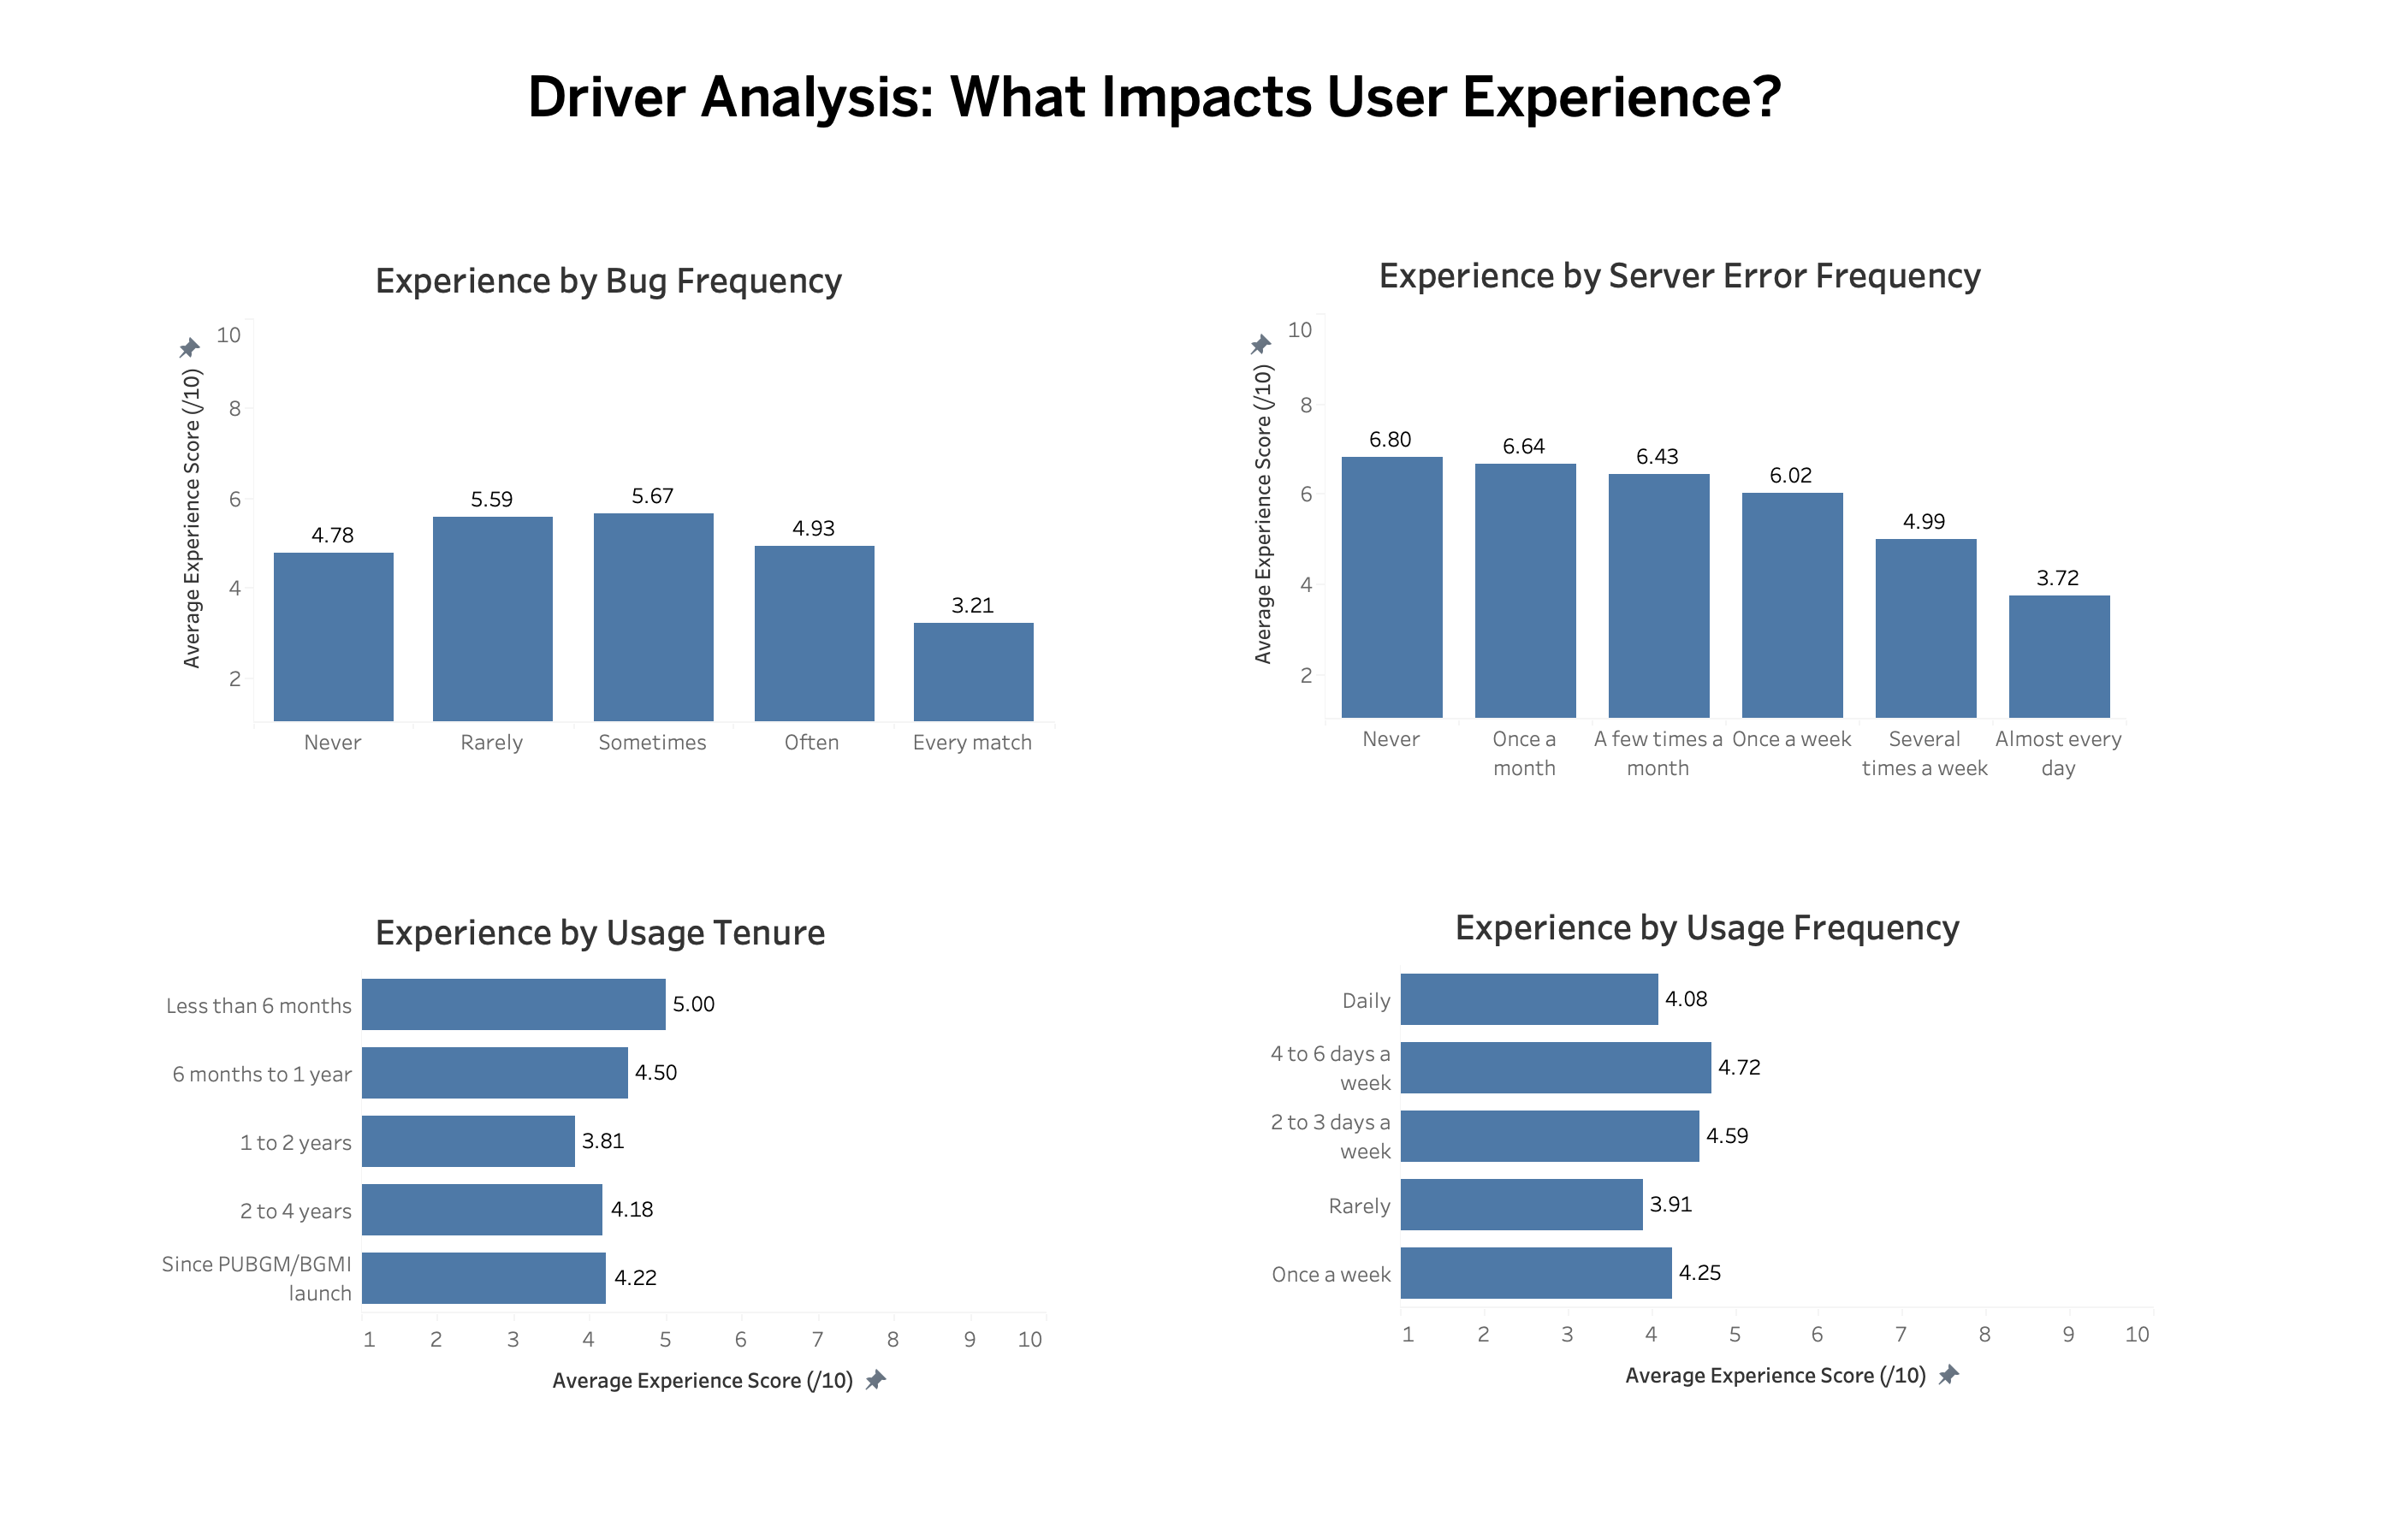

This screenshot's page, from the dashboard's own definition file:
{"tool":"tableau","page":{"name":"Driver Analysis","canvas":[1400,900],"ordinal":0},"visuals":[{"type":"text","box":[248,8,854,99]},{"type":"worksheet","title":"Experience by Server Error Frequency","mark":"Automatic","rows":["overall_experience_score"],"cols":["server_error_frequency"],"box":[722,140,520,320]},{"type":"worksheet","title":"Experience by Bug Frequency","mark":"Automatic","rows":["overall_experience_score"],"cols":["bug_frequency"],"box":[96,143,520,300]},{"type":"worksheet","title":"Experience by Play Frequency","mark":"Automatic","rows":["play_frequency"],"cols":["overall_experience_score"],"box":[738,521,520,307]},{"type":"worksheet","title":"Experience by Years Playing","mark":"Automatic","rows":["years_playing"],"cols":["overall_experience_score"],"box":[91,524,520,300]}]}

Visuals, with their boxes in screenshot pixels (x1, y1, x2, y2), scaled from the page's 1400x900 canvas onto the 2396x1540 screenshot:
text: box(424, 14, 1886, 183)
"Experience by Server Error Frequency" worksheet: box(1236, 240, 2126, 787)
"Experience by Bug Frequency" worksheet: box(164, 245, 1054, 758)
"Experience by Play Frequency" worksheet: box(1263, 891, 2153, 1417)
"Experience by Years Playing" worksheet: box(156, 897, 1046, 1410)
